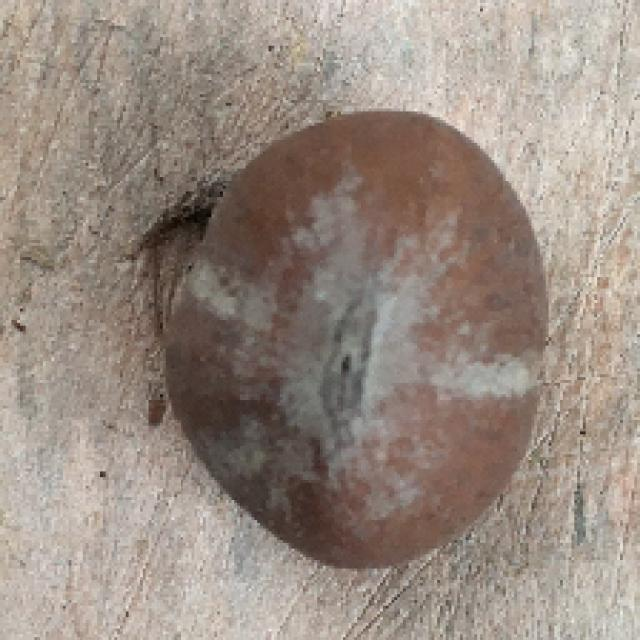damagedHazelnut: (174, 97, 546, 580)
